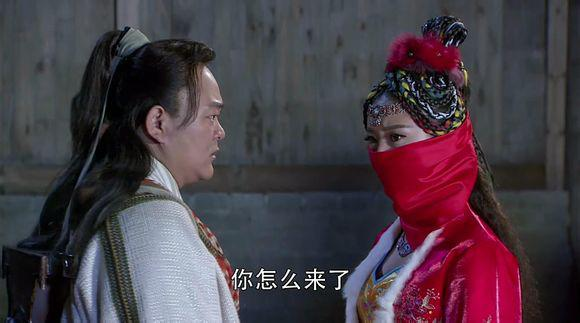NONE: (157, 96, 229, 179)
OK: (368, 118, 442, 192)
